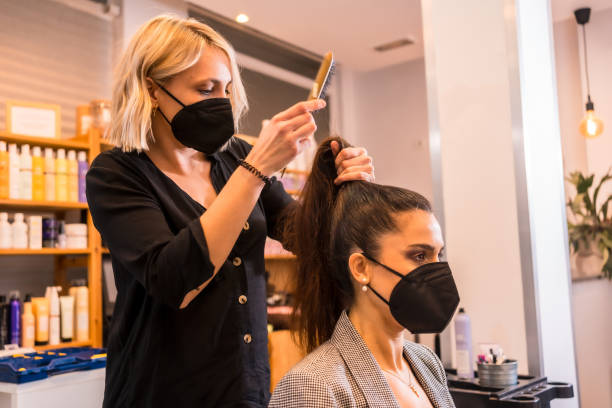with mask: (348, 188, 476, 346), (121, 20, 244, 160)
